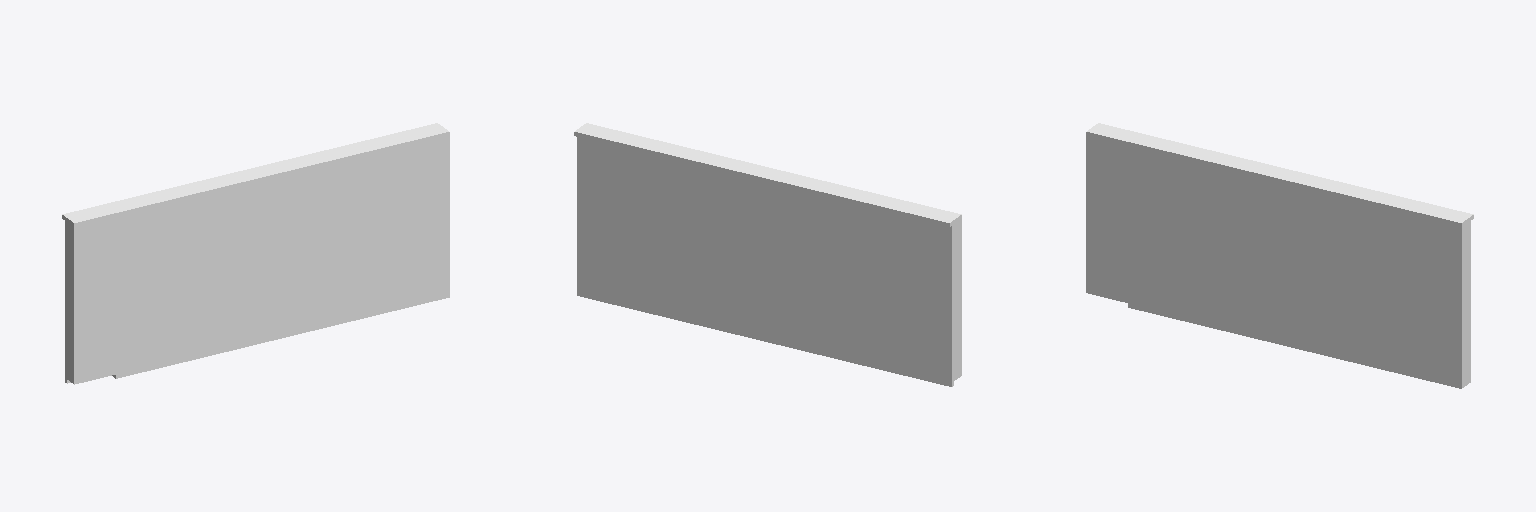
Rendered from apt-wall-back-brick.obj.
3 renders of one model, left to right at view 1: azimuth 30°, elevation 25°; view 2: azimuth 150°, elevation 25°; view 3: azimuth 330°, elevation 25°, orthographic.
Parts seen in each view (by area): view 1: apt:wall-back-brick; view 2: apt:wall-back-brick; view 3: apt:wall-back-brick.
Part boxes in pixels (x1,y1,x2,y2): apt:wall-back-brick: (62,123,449,384); apt:wall-back-brick: (574,123,961,386); apt:wall-back-brick: (1086,123,1473,388).
Size of the model in its own units: 90 by 38 by 5.